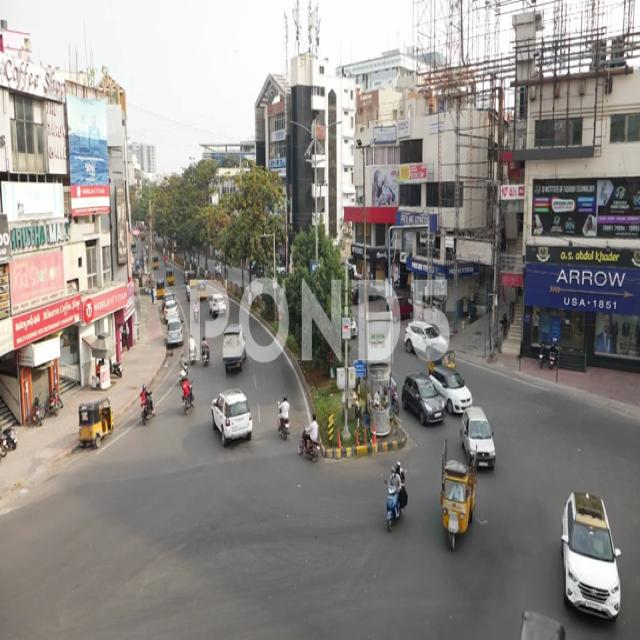car: (558, 497, 623, 622), (211, 390, 254, 447), (404, 378, 445, 427), (469, 412, 498, 470), (448, 367, 472, 412)
motorbike: (384, 463, 407, 534), (296, 415, 319, 460), (276, 390, 292, 440), (138, 383, 156, 422), (181, 380, 195, 417)
truck: (221, 327, 249, 373)
